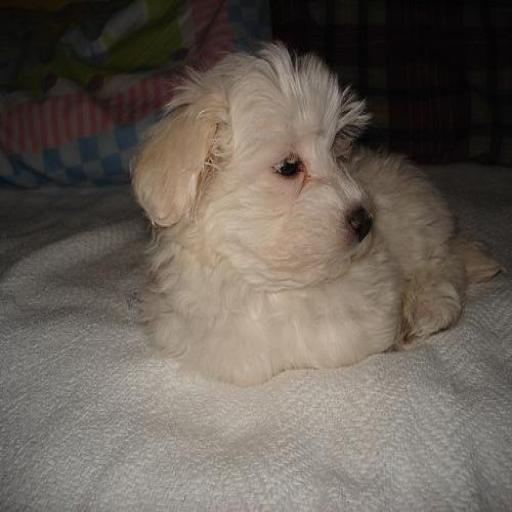dog_face: (140, 58, 373, 274)
